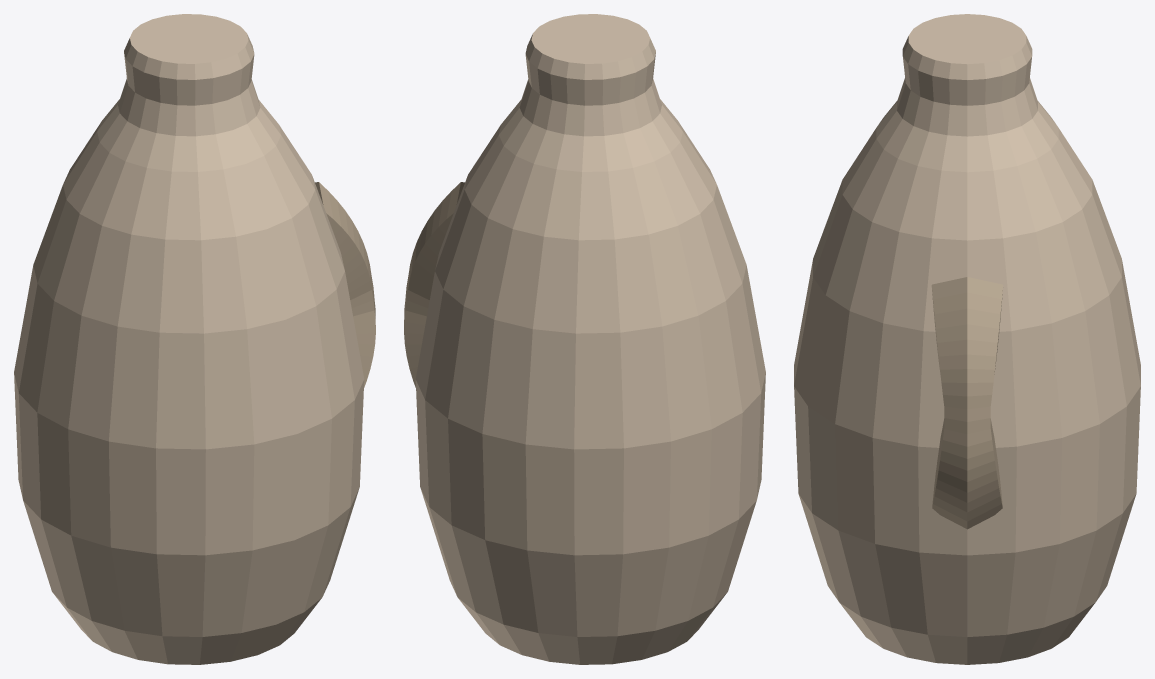
The model's file is grotto_clay_jug_LOD0_roblox.fbx.
The picture shows the model from 3 angles, left to right: view 1: azimuth 30°, elevation 25°; view 2: azimuth 150°, elevation 25°; view 3: azimuth 270°, elevation 25°; orthographic projection.
Parts seen in each view (by area): view 1: jug_Body, jug_Handle; view 2: jug_Body, jug_Handle; view 3: jug_Body, jug_Handle.
Part boxes in pixels (x1,y1,x2,y2): jug_Body: [14, 14, 364, 664]; jug_Handle: [315, 182, 375, 387]; jug_Body: [415, 14, 765, 664]; jug_Handle: [404, 182, 464, 387]; jug_Body: [794, 14, 1140, 664]; jug_Handle: [931, 277, 1003, 529].
Size of the model in its own units: 0.263 by 0.2336 by 0.43.
